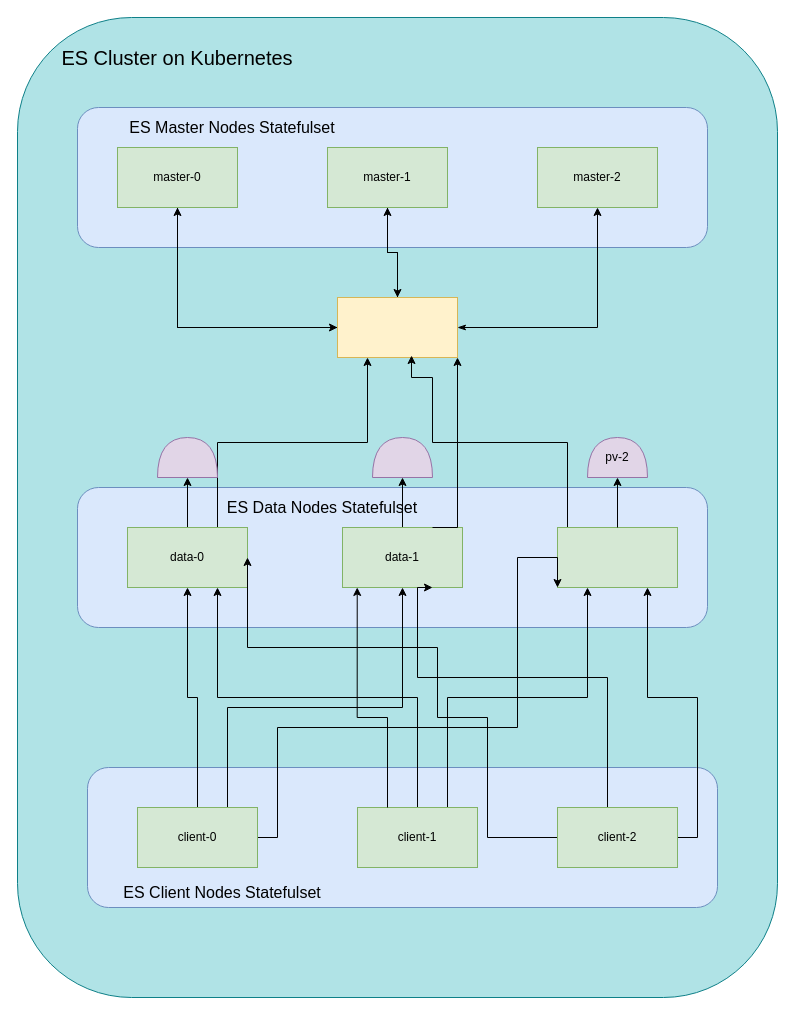
The diagram is 795 pixels wide and 1015 high, and some of its shapes have lost their labels. The box of each missing label's shape, as (x1, y1, x2, y2) in pixels:
data-2: (556, 526, 678, 588)
Headless Service: (336, 296, 458, 358)
pv-0: (156, 436, 218, 478)
pv-1: (372, 436, 432, 478)
